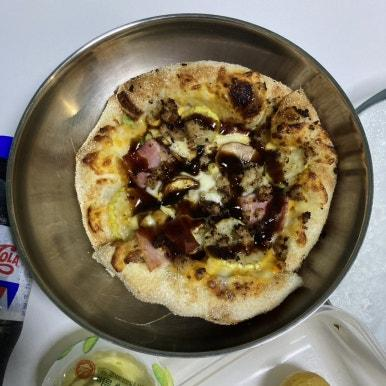Lunch Box: (8, 15, 371, 354)
